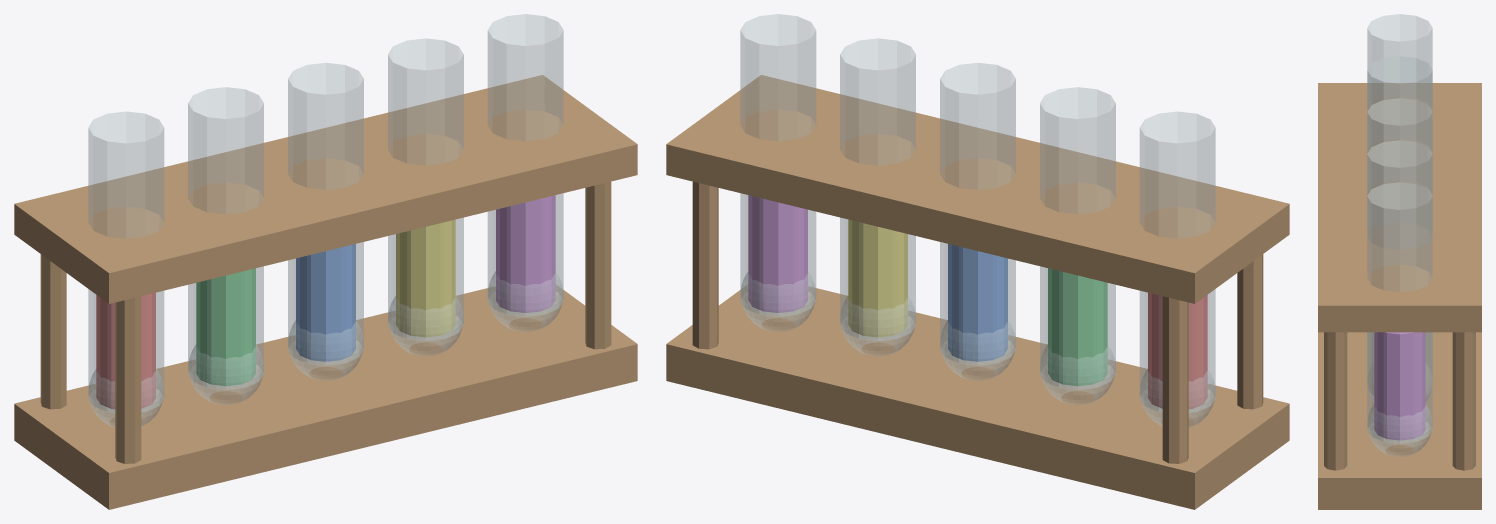
File: test_tube_rack.glb
The picture shows the model from 3 angles, left to right: view 1: azimuth 30°, elevation 25°; view 2: azimuth 150°, elevation 25°; view 3: azimuth 270°, elevation 25°; orthographic projection. The views are drawn at different scales.
Visible parts, largest first — view 1: RackTop, RackBase, Tube_4, Tube_2, Tube_3, Tube_1, Tube_0, Liquid_3, Liquid_4, Liquid_2, Liquid_1, Post_-0.55_2.0 (+8 smaller); view 2: RackTop, RackBase, Tube_4, Tube_2, Tube_3, Tube_1, Tube_0, Liquid_3, Liquid_4, Liquid_2, Liquid_1, Post_0.55_2.0 (+8 smaller); view 3: RackTop, RackBase, Tube_4, Tube_3, Liquid_4, Tube_2, Tube_0, Tube_1, Post_0.55_2.0, Post_-0.55_2.0, TubeBottom_4.
Part boxes in pixels (bbox=[...]): RackTop: bbox=[14, 75, 637, 303]; RackBase: bbox=[14, 285, 637, 509]; Tube_4: bbox=[487, 14, 563, 316]; Tube_2: bbox=[288, 62, 363, 365]; Tube_3: bbox=[388, 38, 463, 340]; Tube_1: bbox=[188, 87, 263, 389]; Tube_0: bbox=[88, 111, 164, 412]; Liquid_3: bbox=[396, 219, 455, 337]; Liquid_4: bbox=[496, 195, 555, 312]; Liquid_2: bbox=[296, 244, 355, 361]; Liquid_1: bbox=[196, 268, 255, 386]; Post_-0.55_2.0: bbox=[585, 181, 611, 349]; RackTop: bbox=[666, 75, 1289, 303]; RackBase: bbox=[666, 285, 1289, 509]; Tube_4: bbox=[740, 14, 816, 316]; Tube_2: bbox=[940, 62, 1015, 365]; Tube_3: bbox=[840, 38, 915, 340]; Tube_1: bbox=[1040, 87, 1115, 389]; Tube_0: bbox=[1139, 111, 1215, 412]; Liquid_3: bbox=[848, 219, 907, 337]; Liquid_4: bbox=[748, 195, 807, 312]; Liquid_2: bbox=[948, 244, 1007, 361]; Liquid_1: bbox=[1048, 268, 1107, 386]; Post_0.55_2.0: bbox=[692, 181, 718, 349]; RackTop: bbox=[1318, 83, 1481, 332]; RackBase: bbox=[1318, 332, 1481, 509]; Tube_4: bbox=[1367, 182, 1432, 443]; Tube_3: bbox=[1367, 140, 1432, 394]; Liquid_4: bbox=[1374, 332, 1425, 440]; Tube_2: bbox=[1367, 98, 1432, 192]; Tube_0: bbox=[1367, 14, 1432, 108]; Tube_1: bbox=[1367, 56, 1432, 150]; Post_0.55_2.0: bbox=[1452, 332, 1475, 470]; Post_-0.55_2.0: bbox=[1324, 332, 1347, 470]; TubeBottom_4: bbox=[1367, 405, 1432, 456].
Size of the model in its own units: 4.5 by 2.7 by 1.4.
